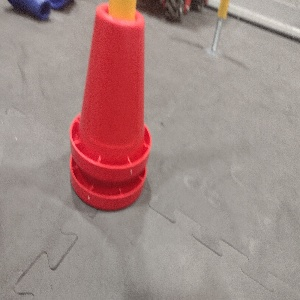Red_2: (71, 5, 150, 209)
